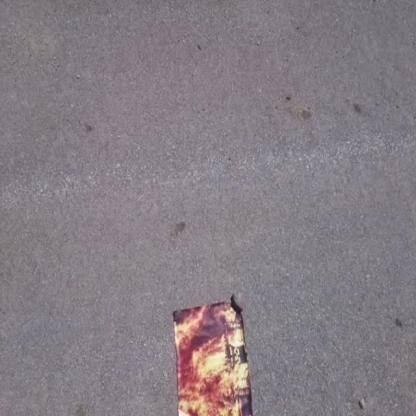fire-poster: (171, 294, 255, 415)
